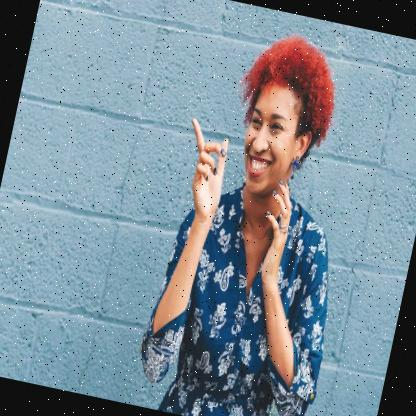sem_capacete: (216, 19, 352, 214)
sem_colete_refletivo: (126, 172, 360, 415)
